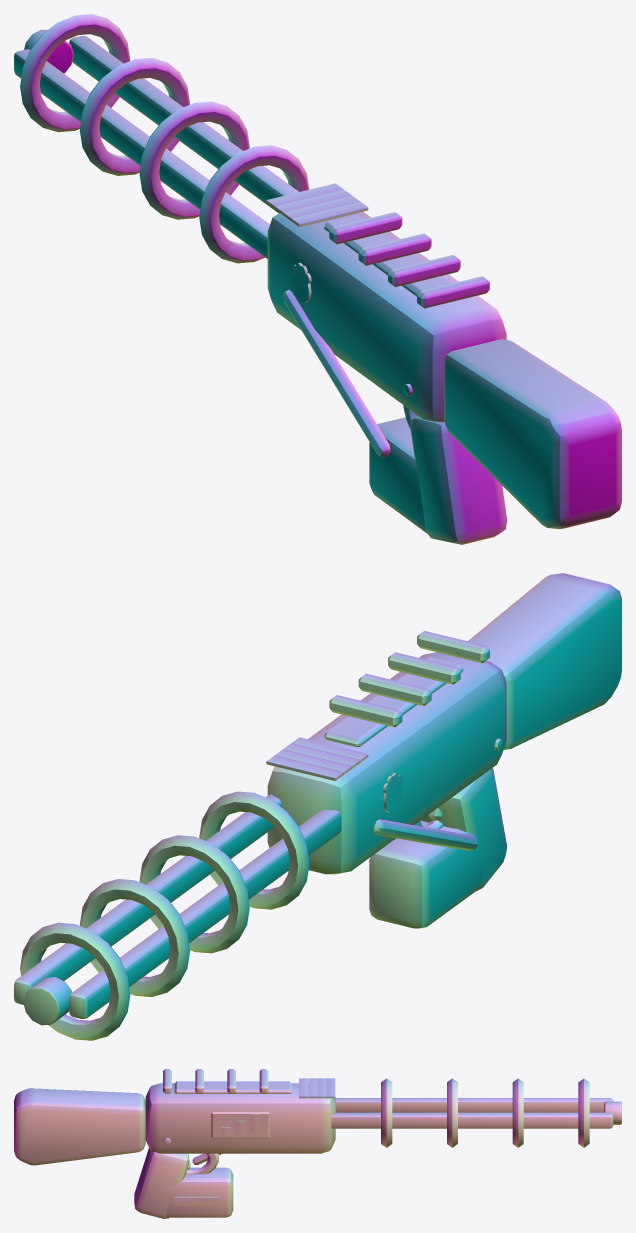
File: wpn_rail.glb
3 renders of one model, top to bottom at view 1: azimuth 30°, elevation 25°; view 2: azimuth 150°, elevation 25°; view 3: azimuth 270°, elevation 25°, orthographic. The views are drawn at different scales.
Parts seen in each view (by area): view 1: wpn_rail_mesh; view 2: wpn_rail_mesh; view 3: wpn_rail_mesh.
Part boxes in pixels (x1,y1,x2,y2): wpn_rail_mesh: (14,14,621,544); wpn_rail_mesh: (14,573,621,1040); wpn_rail_mesh: (14,1069,621,1218).
Bounding box in the file's own units: 0.048 × 0.1032 × 0.416.
